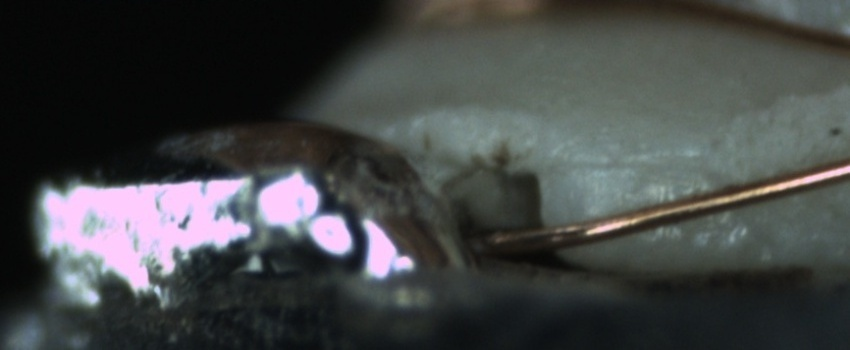DL: (566, 134, 708, 193)
